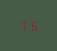seven: (19, 20, 27, 31)
six: (28, 20, 36, 31)
